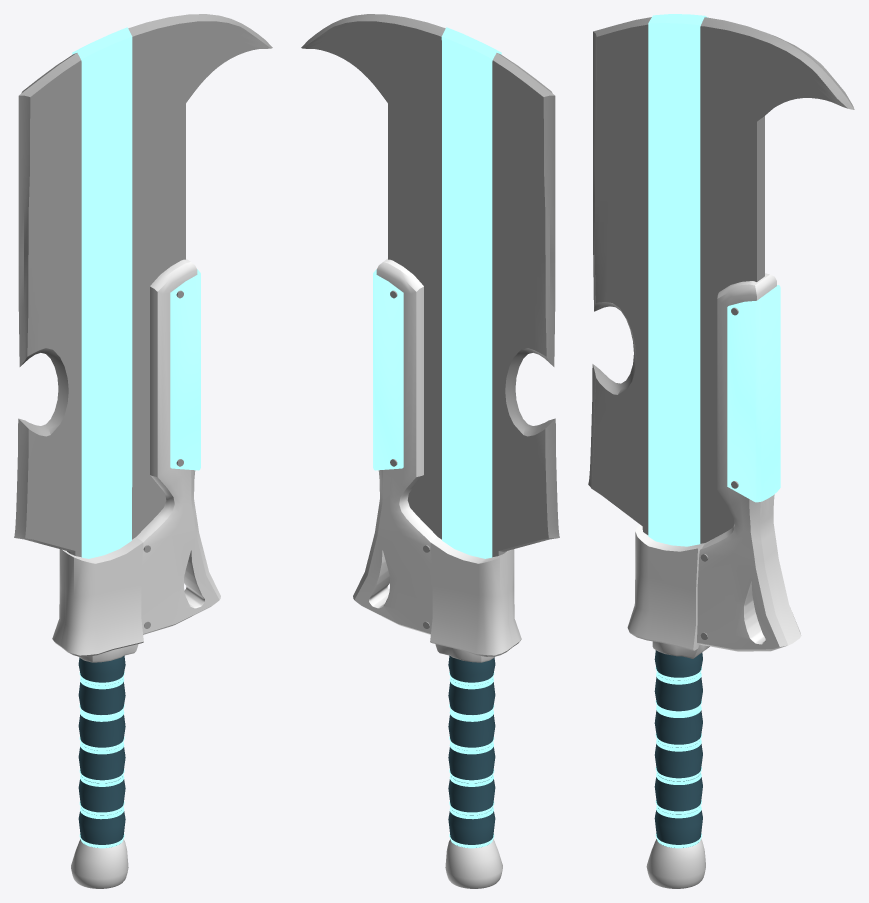
Rendered from Sword.fbx.
3 views of the same model, side by side, from view 1: azimuth 30°, elevation 25°; view 2: azimuth 150°, elevation 25°; view 3: azimuth 330°, elevation 25° (orthographic). The views are drawn at different scales.
Visible parts, largest first — view 1: Sword, Light.001; view 2: Sword, Light.001; view 3: Sword, Light.001.
Boxes of the visible parts, x1,y1,x2,y2 form: Sword: [14, 14, 272, 888]; Light.001: [72, 27, 200, 848]; Sword: [301, 14, 559, 888]; Light.001: [373, 27, 501, 848]; Sword: [588, 17, 854, 888]; Light.001: [648, 14, 780, 848].
Bounding box in the file's own units: 98.32 × 307 × 19.01.
